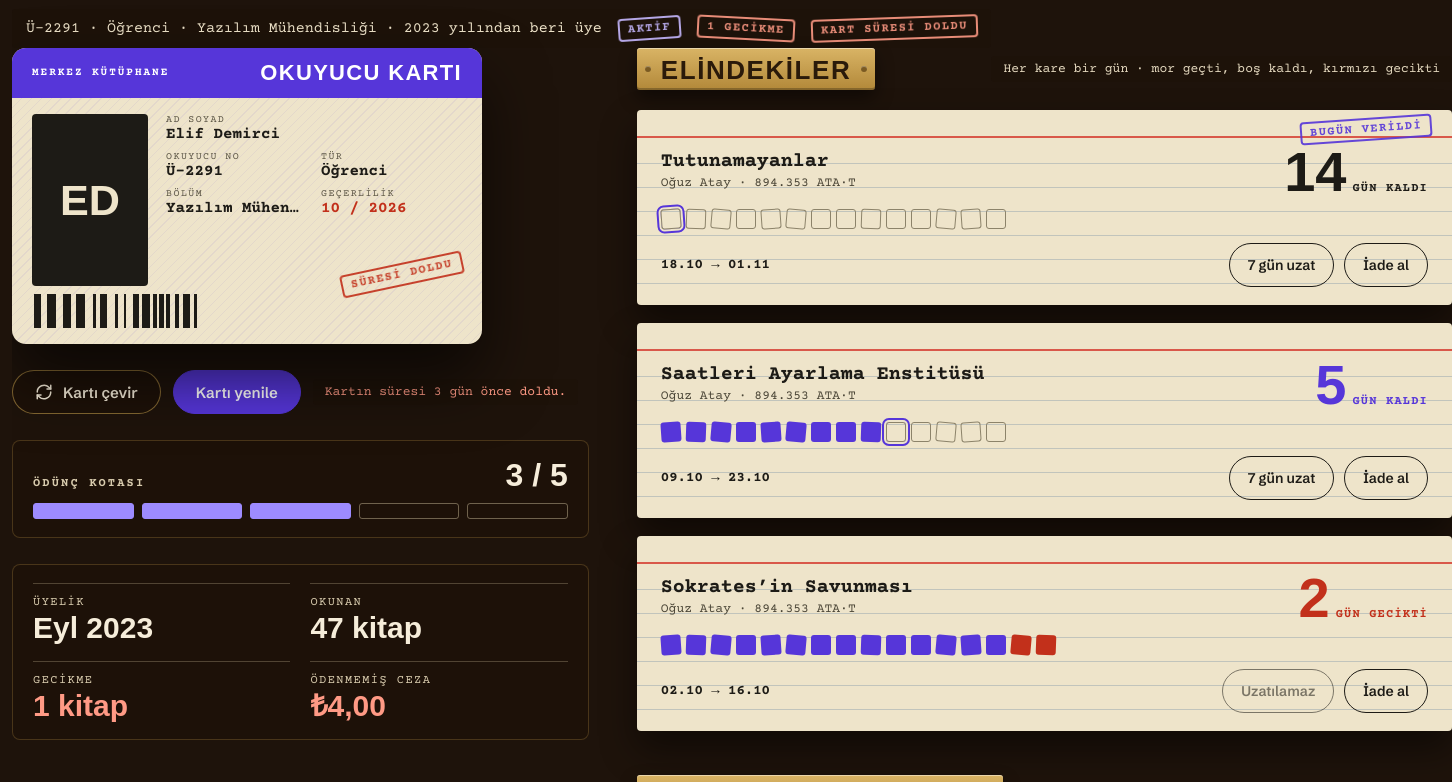
Test: Üye profili › süresi dolmuş kart: damgalar ve yenileme
The width and height of the screenshot is (1452, 782).
(page scrolled)
expect the text "Kartın süresi 3 gün önce doldu." is shown: met, box [313,379,578,405]
Click the button "Kartı yenile".
click(237, 392)  # box [173,370,301,414]
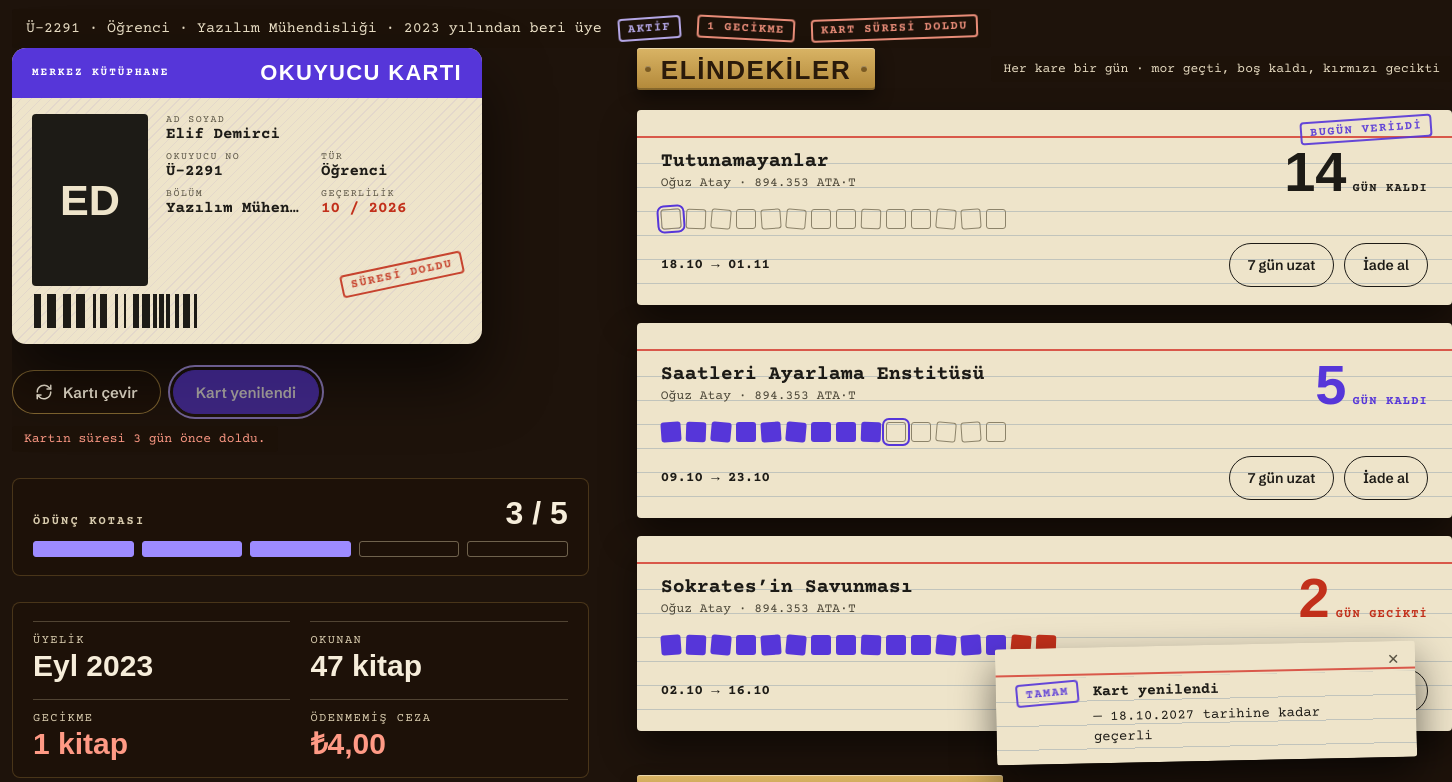
expect the text "— 18.10.2027 tarihine kadar geçerli" is shown: met, box [1093,704,1320,745]
